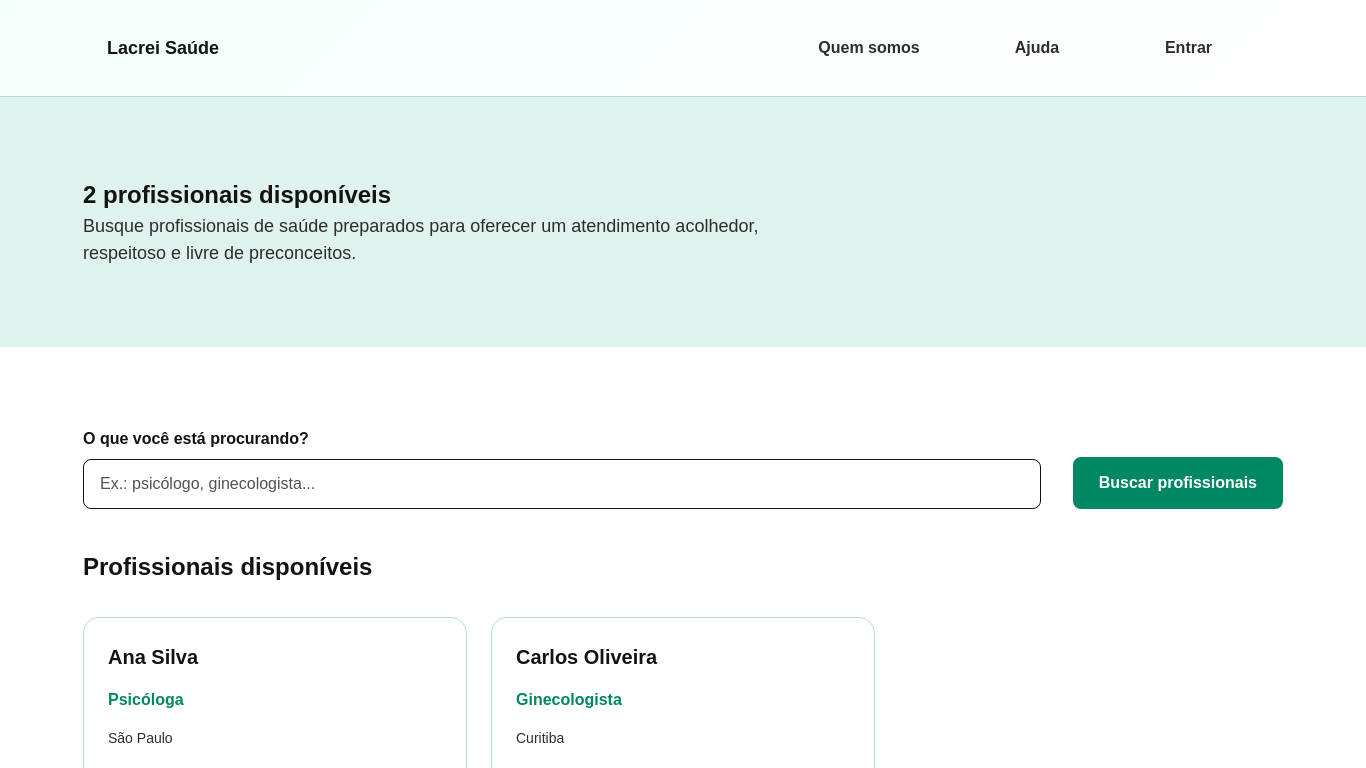
BuscarPage › filtra profissionais pela especialidade
Expected: the heading "Ana Silva" is shown, [108,646,198,668]
In the search field: {"x": 562, "y": 484} [83,459,1041,509], type "ginecologista"
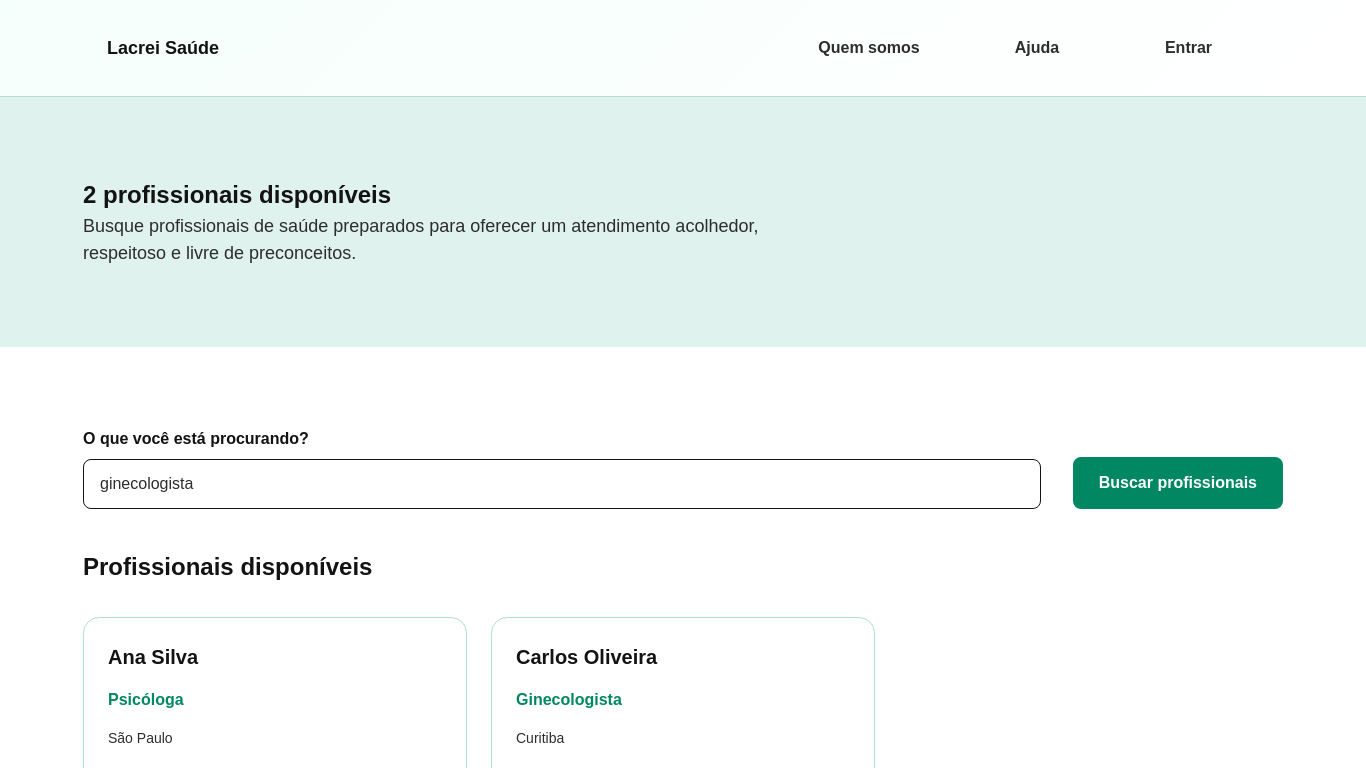
Click the button "Buscar profissionais": {"x": 1178, "y": 483} [1073,457,1283,509]
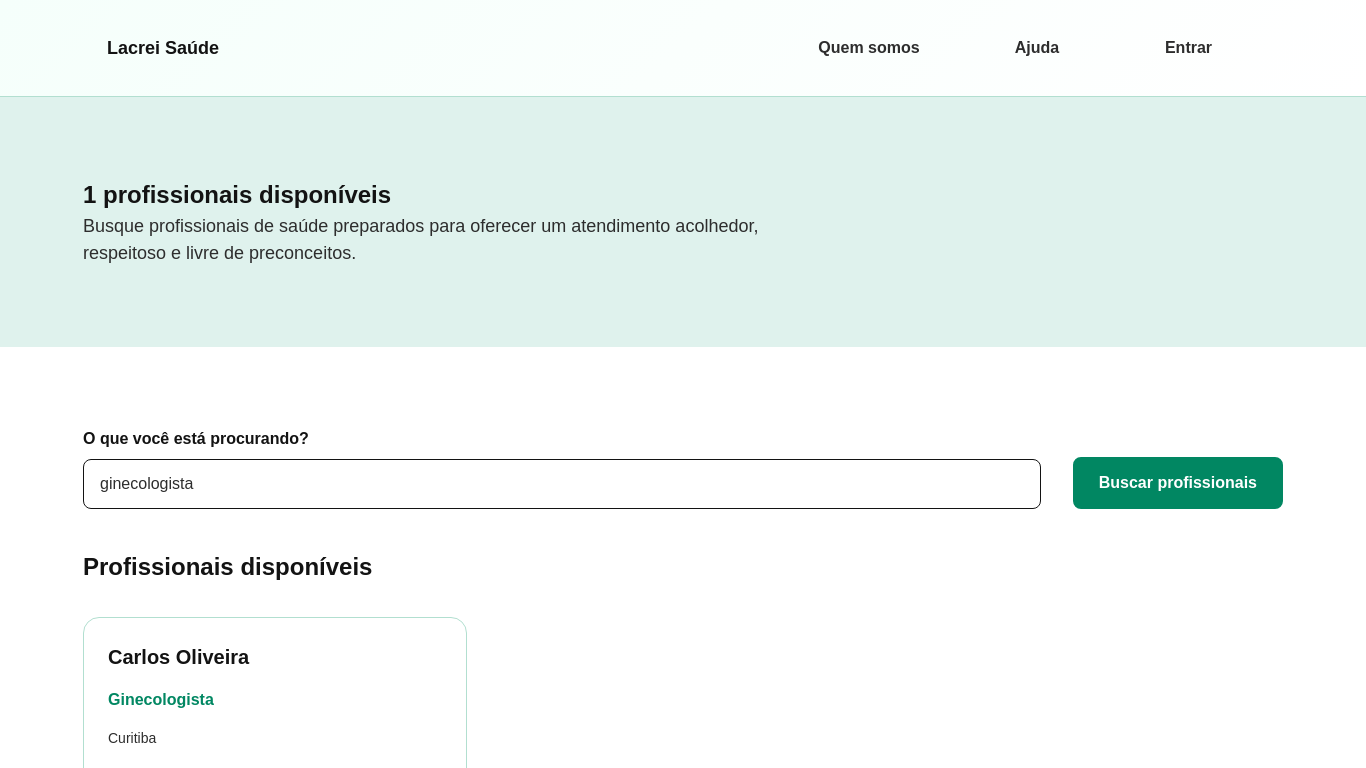
Expected: the heading "Carlos Oliveira" is shown, [108,646,249,668]
Result: the heading "Ana Silva" is gone
